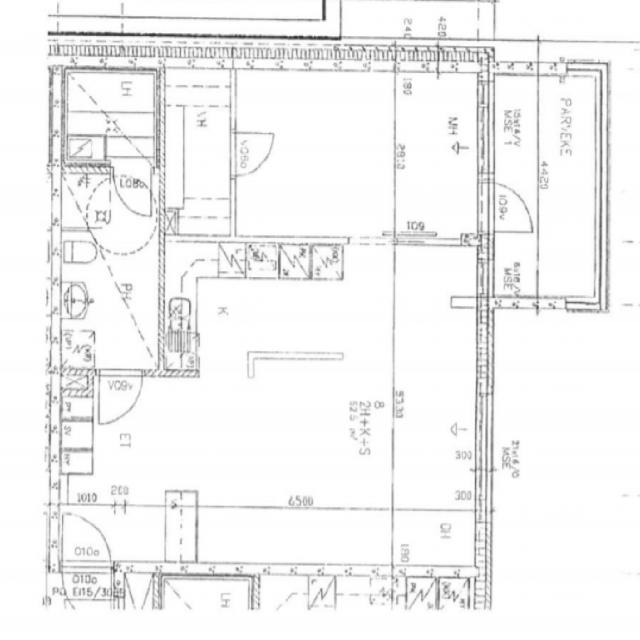door: (64, 510, 110, 578), (64, 564, 110, 630), (476, 182, 537, 230), (98, 370, 142, 424), (113, 161, 151, 216), (230, 132, 274, 175)
